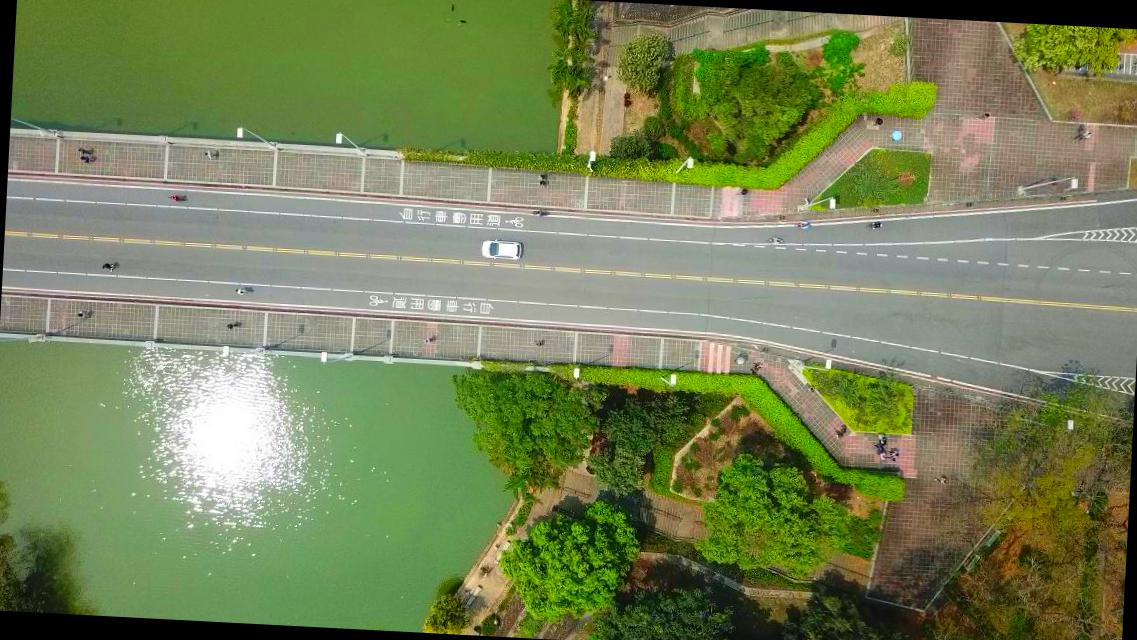vehicle: (477, 238, 524, 262)
